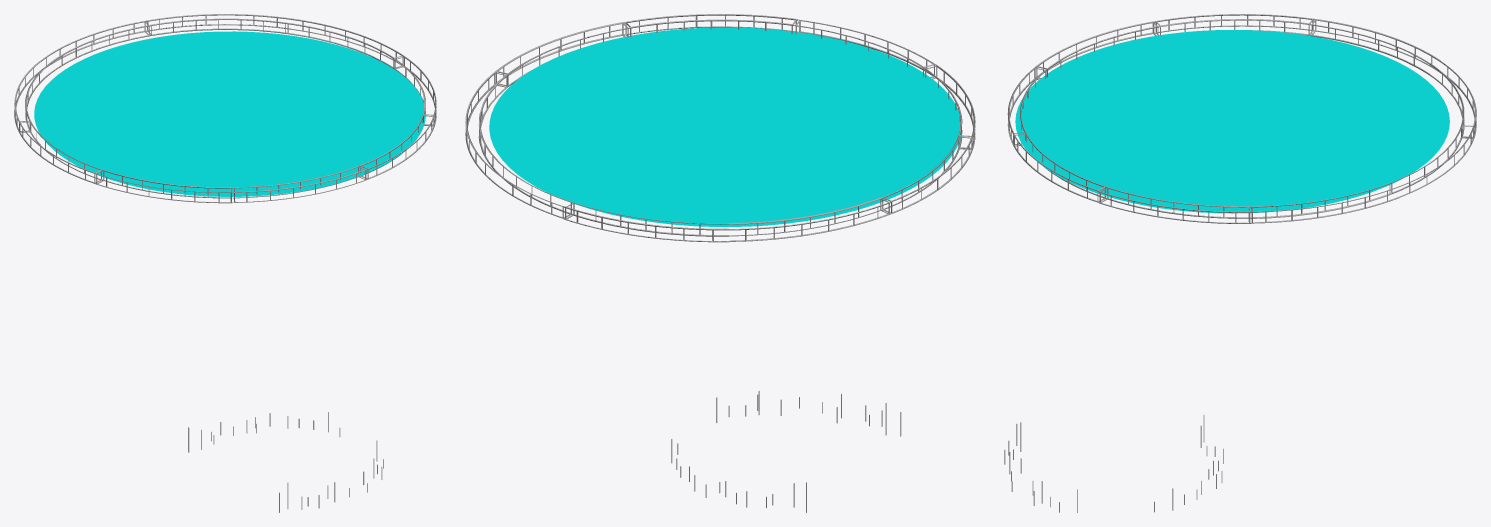
File: DomeCeiling.fbx
The picture shows the model from 3 angles, left to right: view 1: azimuth 30°, elevation 25°; view 2: azimuth 150°, elevation 25°; view 3: azimuth 270°, elevation 25°; orthographic projection. The views are drawn at different scales.
Visible parts, largest first — view 1: Screen, Truss, Poles; view 2: Screen, Truss, Poles; view 3: Screen, Truss, Poles.
Boxes of the visible parts, x1,y1,x2,y2 form: Screen: (34, 31, 425, 196); Truss: (14, 14, 436, 203); Poles: (188, 412, 383, 512); Screen: (489, 27, 961, 226); Truss: (465, 14, 975, 242); Poles: (671, 391, 901, 512); Screen: (1015, 30, 1449, 213); Truss: (1007, 14, 1476, 223); Poles: (1004, 415, 1223, 512).
Size of the model in its own units: 3218 by 2726 by 3243.
